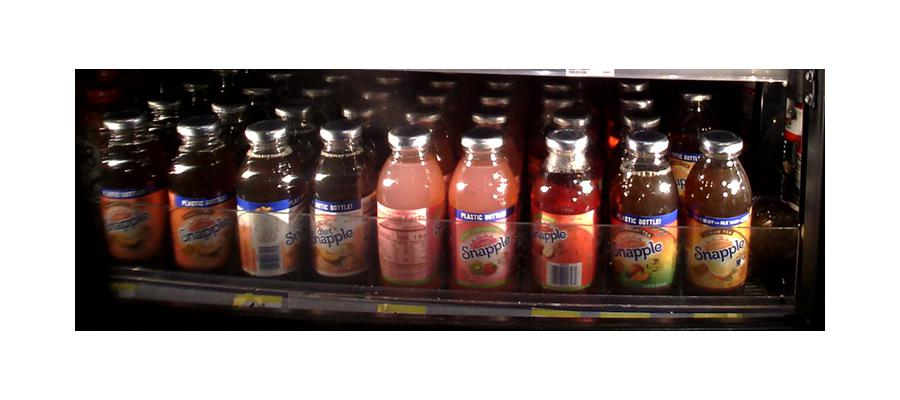bottle: (531, 127, 600, 295), (448, 129, 518, 292), (614, 123, 679, 297), (235, 122, 302, 285), (687, 128, 752, 295), (97, 109, 166, 266), (376, 126, 441, 292), (310, 120, 372, 283), (168, 117, 232, 273)
